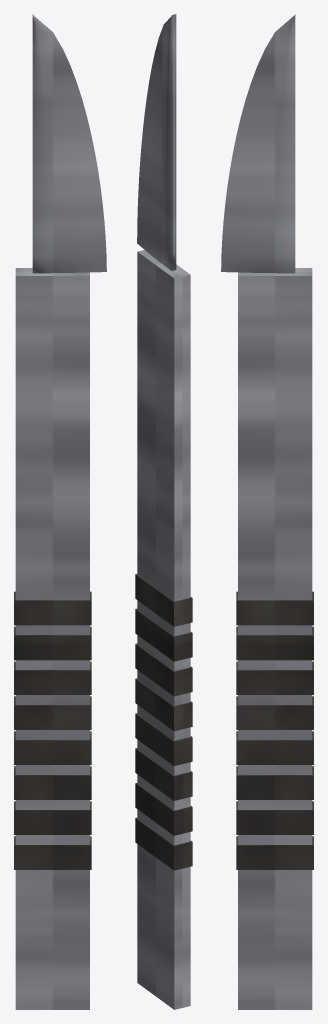
Rendered from メス_scalpel.glb.
3 renders of one model, left to right at view 1: azimuth 90°, elevation 25°; view 2: azimuth 210°, elevation 25°; view 3: azimuth 270°, elevation 25°, orthographic.
Parts seen in each view (by area): view 1: scalpel; view 2: scalpel; view 3: scalpel.
Boxes of the visible parts, box(x1,y1,x2,y2) form: scalpel: box(14, 14, 106, 1009); scalpel: box(135, 14, 192, 1009); scalpel: box(221, 14, 313, 1009).
Bounding box in the file's own units: 0.0032 × 0.162 × 0.0137.
Materials: 3 (3 with a texture image).
